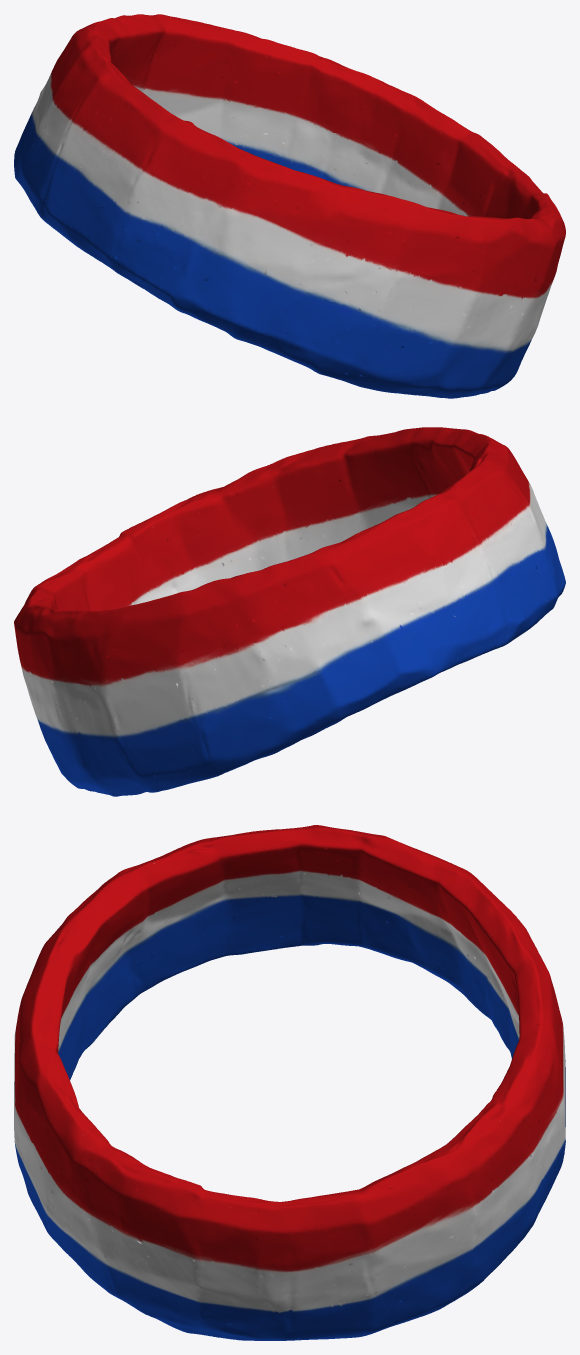
The model's file is headband.glb.
The picture shows the model from 3 angles, top to bottom: view 1: azimuth 30°, elevation 25°; view 2: azimuth 150°, elevation 25°; view 3: azimuth 270°, elevation 25°; orthographic projection. The views are drawn at different scales.
Parts seen in each view (by area): view 1: world; view 2: world; view 3: world.
Part boxes in pixels (left/top/right/bottom): world: left=14, top=14, right=565, bottom=398; world: left=14, top=427, right=565, bottom=796; world: left=14, top=825, right=565, bottom=1340.
Bounding box in the file's own units: 1 × 0.687 × 0.9905.
Materials: 1 (1 with a texture image).
